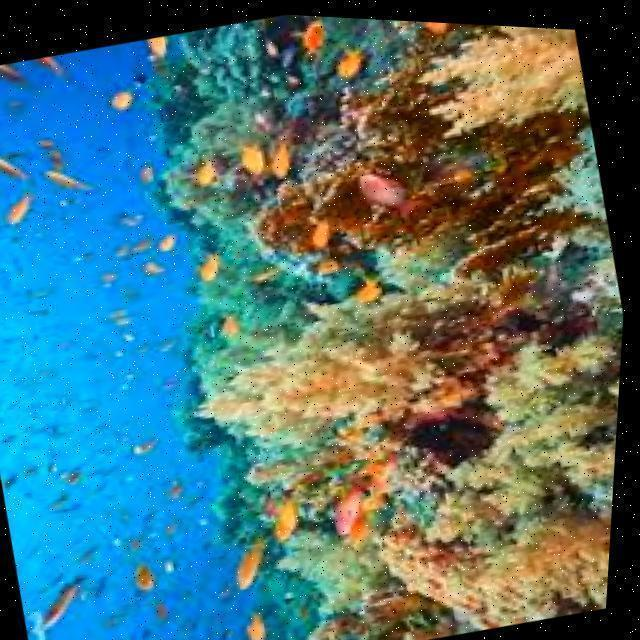Healthy Coral: (192, 9, 622, 315), (178, 275, 476, 487), (355, 408, 622, 640)
